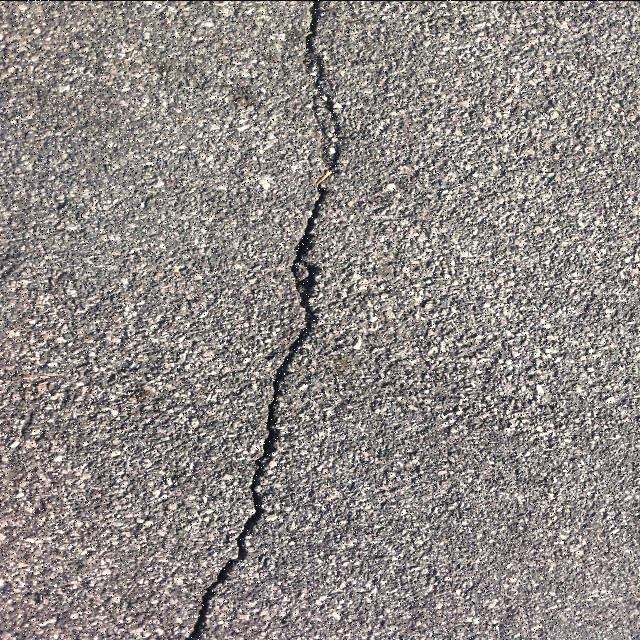Crack: (182, 0, 341, 640)
